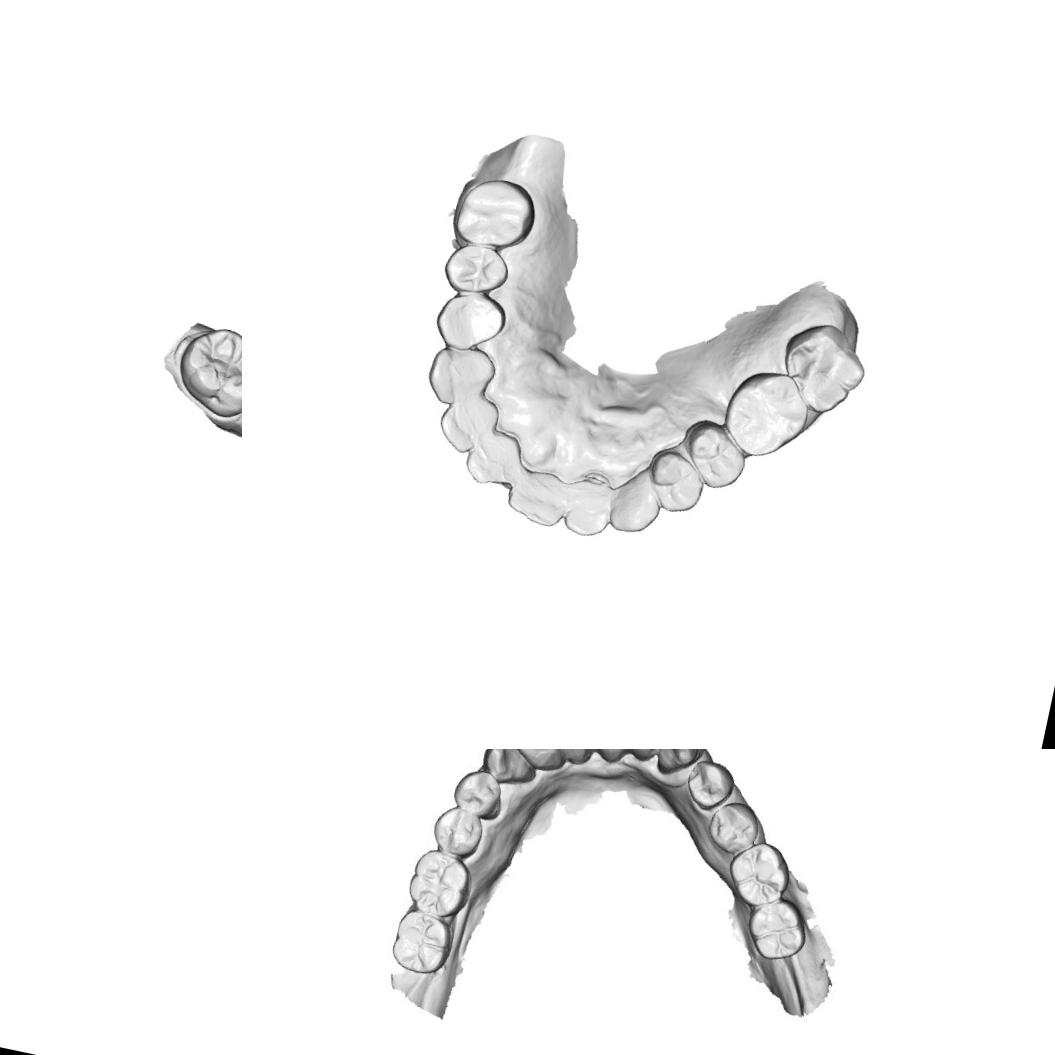canine: (423, 342, 500, 411), (607, 477, 664, 539), (474, 749, 544, 790), (649, 749, 708, 781)
incisor: (500, 471, 576, 532), (433, 392, 497, 460), (458, 428, 524, 492), (558, 481, 619, 544), (502, 749, 567, 772), (533, 749, 597, 767), (617, 749, 668, 764)
molar: (771, 314, 877, 422), (716, 362, 818, 466), (445, 168, 545, 258), (167, 315, 242, 428), (720, 834, 798, 916), (740, 892, 815, 968), (402, 846, 477, 922), (384, 904, 458, 980)
premolar: (678, 416, 755, 497), (430, 286, 510, 358), (643, 447, 711, 520), (437, 237, 515, 300), (444, 765, 514, 826), (704, 796, 768, 858), (428, 800, 490, 862), (678, 754, 736, 814)
